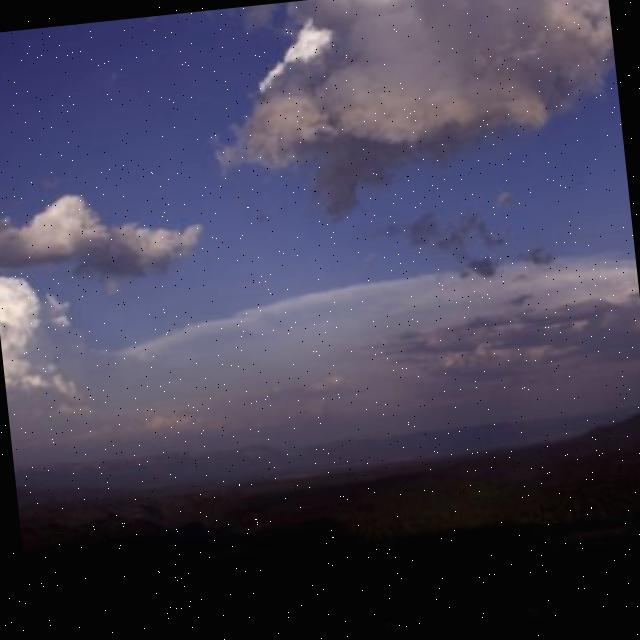Cb: (1, 1, 640, 441)
